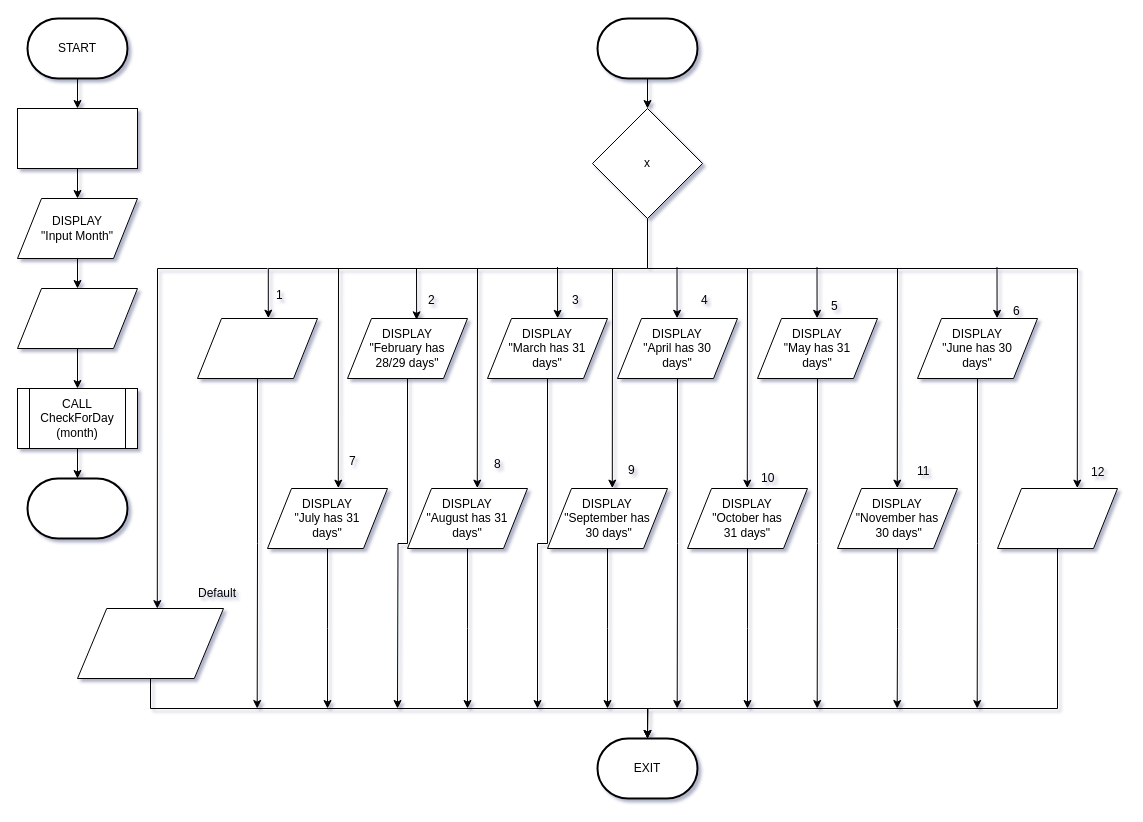
Image size: 1143x822. Some labels were removed from this diagram. The shapes that lost their labels are listed below. From the top down, each one's centre as x and y in pixels, then its label:
(x=647, y=48): *CheckForDay (int x)
(x=77, y=138): DECLARE (int) month
(x=77, y=318): INPUT month
(x=257, y=348): DISPLAY "January has 31 days"
(x=77, y=508): END
(x=1057, y=518): DISPLAY "December has 31 days"
(x=150, y=643): DISPLAY "Input an integer in the range of 1-12"
